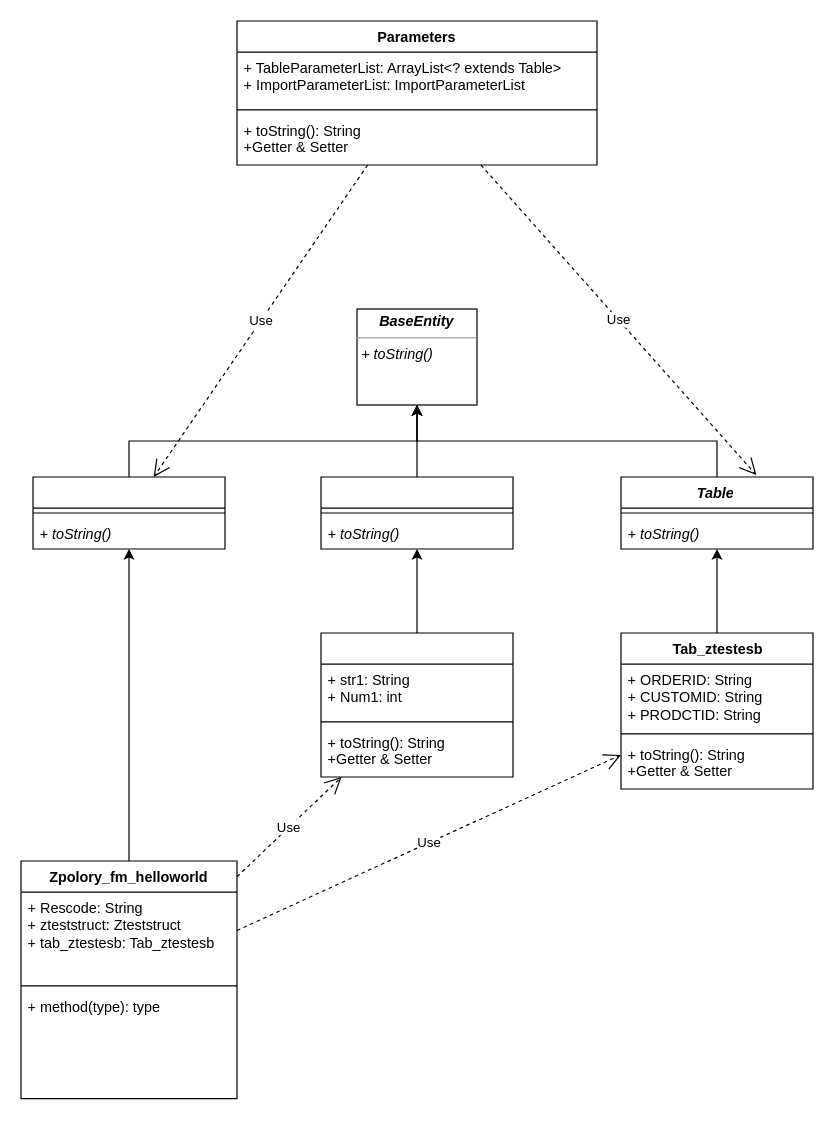
Image size: 834x1123. Some labels were removed from this diagram. The shapes that lost their labels are listed below. From the top down, each one's box as (x1, y1, x2, y2) in pixels, then its label:
(32, 476, 225, 549): ImportParameterList
(320, 476, 513, 549): Structure
(320, 632, 513, 777): Zteststruct
